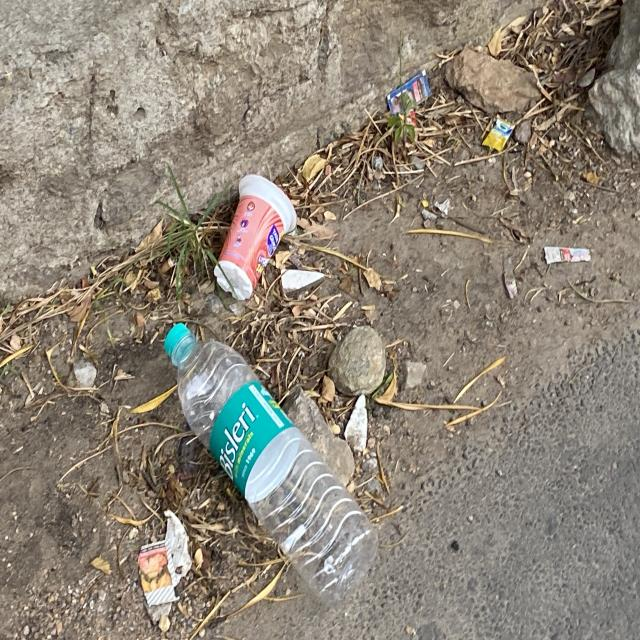chai_nhua: (164, 323, 378, 605)
giay: (137, 510, 191, 608)
giay_goi: (387, 69, 432, 113), (483, 116, 516, 150), (545, 246, 592, 264)
hop_nhua: (214, 173, 297, 300)
